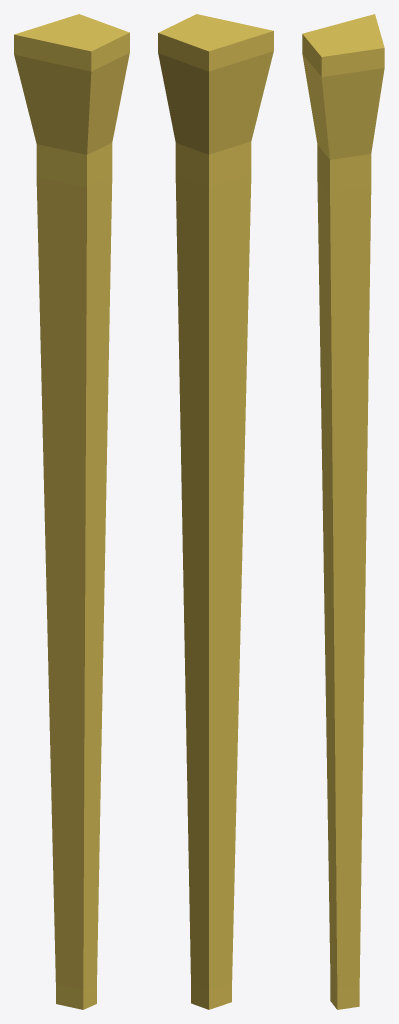
File: Inchen.obj
3 renders of one model, left to right at view 1: azimuth 30°, elevation 25°; view 2: azimuth 210°, elevation 25°; view 3: azimuth 270°, elevation 25°, orthographic.
Parts seen in each view (by area): view 1: Inchen; view 2: Inchen; view 3: Inchen.
Boxes of the visible parts, bbox=[...] form: Inchen: bbox=[14, 14, 129, 1009]; Inchen: bbox=[158, 14, 273, 1009]; Inchen: bbox=[302, 14, 384, 1009].
Size of the model in its own units: 4.95 by 51.71 by 4.
